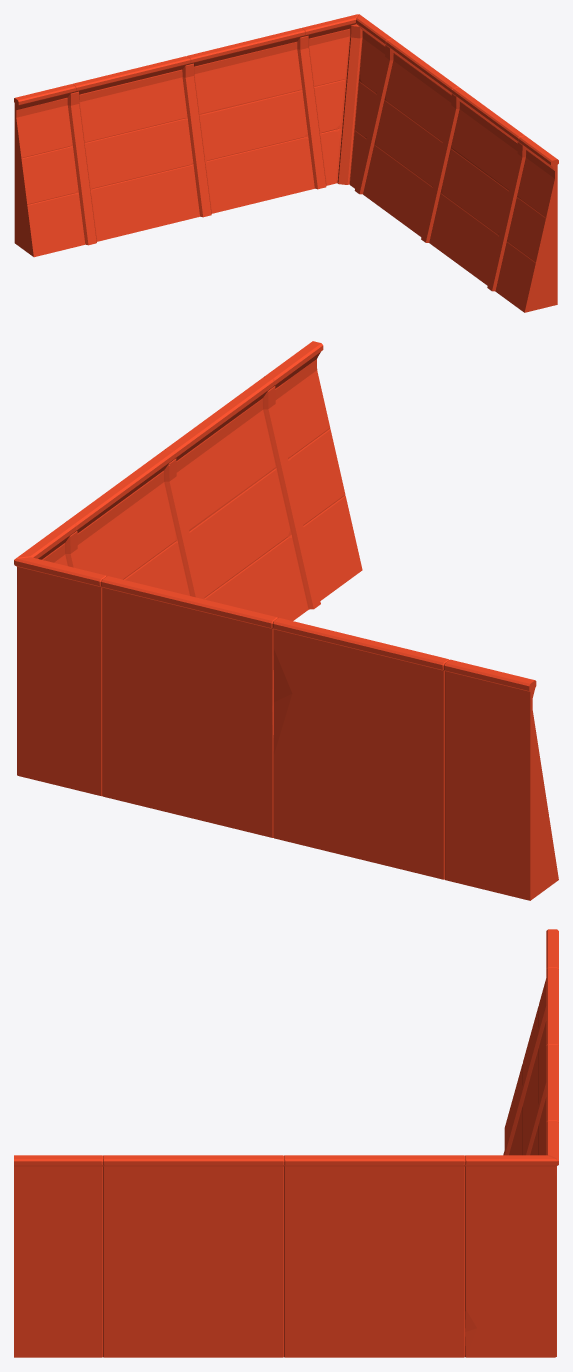
Rendered from SM_Wall_Corner_Inner_Long_City.fbx.
3 renders of one model, top to bottom at view 1: azimuth 30°, elevation 25°; view 2: azimuth 150°, elevation 25°; view 3: azimuth 270°, elevation 25°, orthographic. The views are drawn at different scales.
Parts seen in each view (by area): view 1: SM_Wall_Corner_Inner_Long_City; view 2: SM_Wall_Corner_Inner_Long_City; view 3: SM_Wall_Corner_Inner_Long_City.
Boxes of the visible parts, x1=… form: SM_Wall_Corner_Inner_Long_City: x1=14, y1=14, x2=558, y2=312; SM_Wall_Corner_Inner_Long_City: x1=14, y1=341, x2=558, y2=900; SM_Wall_Corner_Inner_Long_City: x1=14, y1=929, x2=558, y2=1357.
Size of the model in its own units: 30.11 by 12.1 by 30.11.
